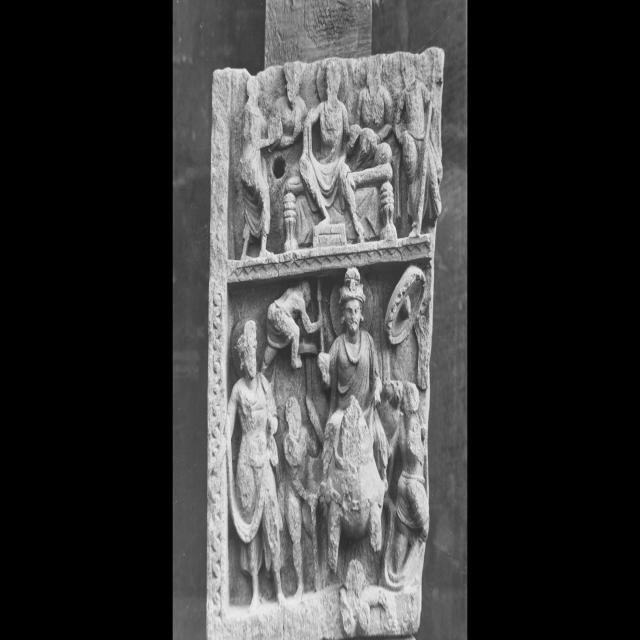buddha-horse-riding: (318, 267, 388, 571)
buddha-sitting: (299, 60, 364, 242)
